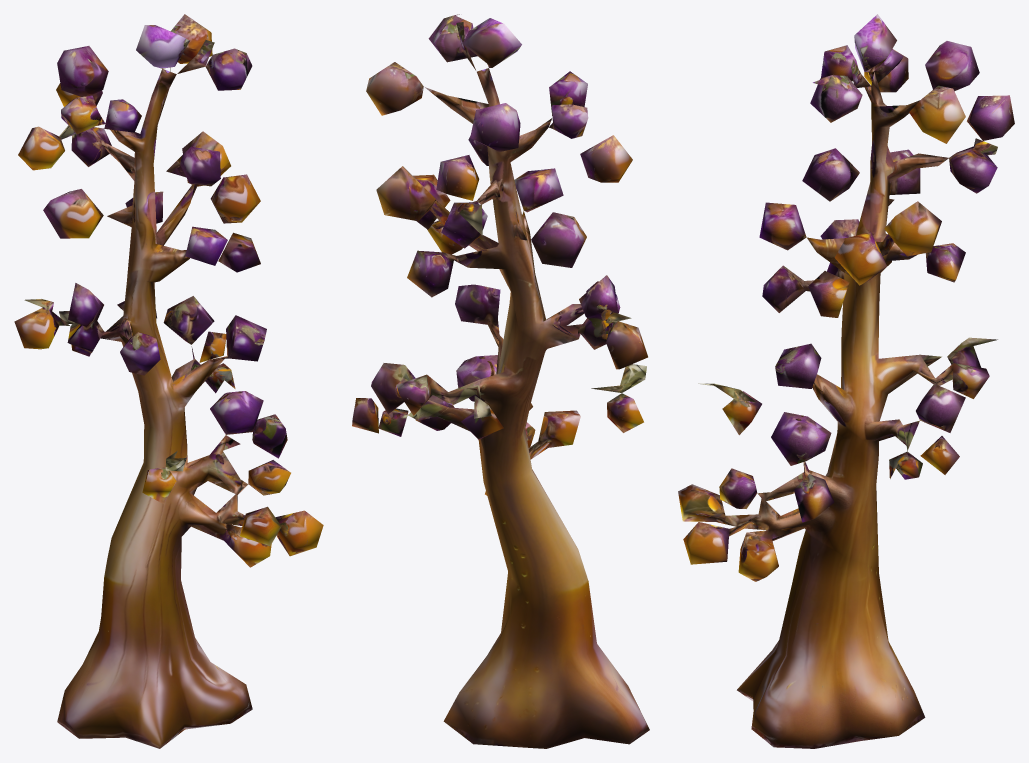
3 views of the same model, side by side, from view 1: azimuth 30°, elevation 25°; view 2: azimuth 150°, elevation 25°; view 3: azimuth 270°, elevation 25° (orthographic). The views are drawn at different scales.
Parts seen in each view (by area): view 1: Mesh1.0; view 2: Mesh1.0; view 3: Mesh1.0.
Boxes of the visible parts, box(x1,y1,x2,y2) form: Mesh1.0: box(14, 14, 323, 748); Mesh1.0: box(352, 14, 649, 748); Mesh1.0: box(678, 14, 1014, 748).
Size of the model in its own units: 76.68 by 201 by 87.23.
Materials: 1 (1 with a texture image).
